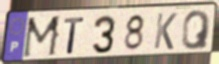3: (91, 14, 117, 55)
8: (122, 13, 145, 52)
K: (152, 12, 178, 51)
M: (21, 15, 63, 60)
Q: (180, 9, 212, 51)
T: (63, 16, 86, 55)
